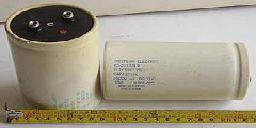Electrolytic-capacitor: (5, 6, 103, 110), (104, 35, 253, 101)
